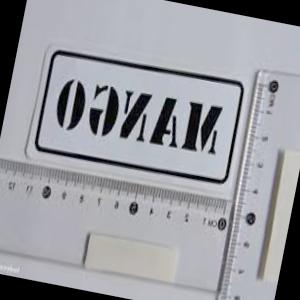mango: (47, 56, 235, 171)
